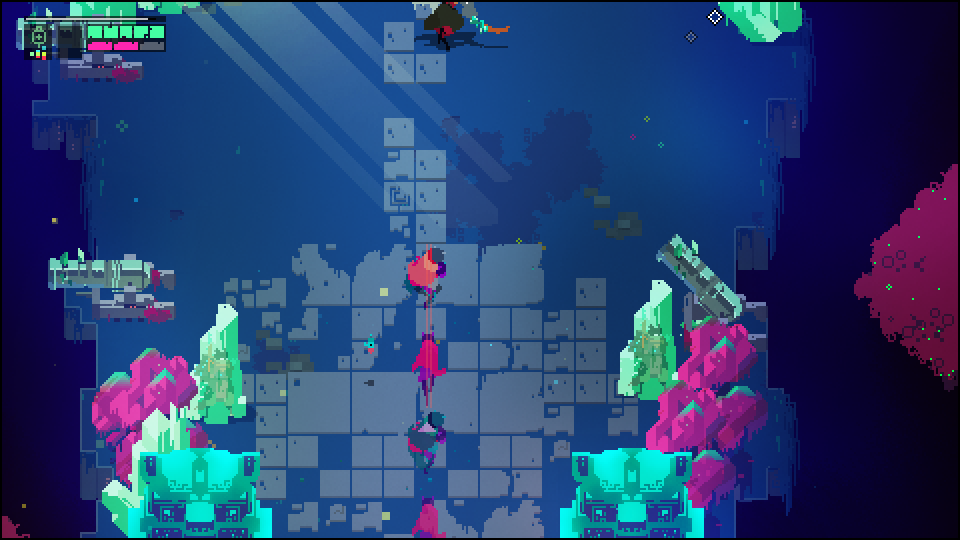player: (405, 246, 448, 301)
